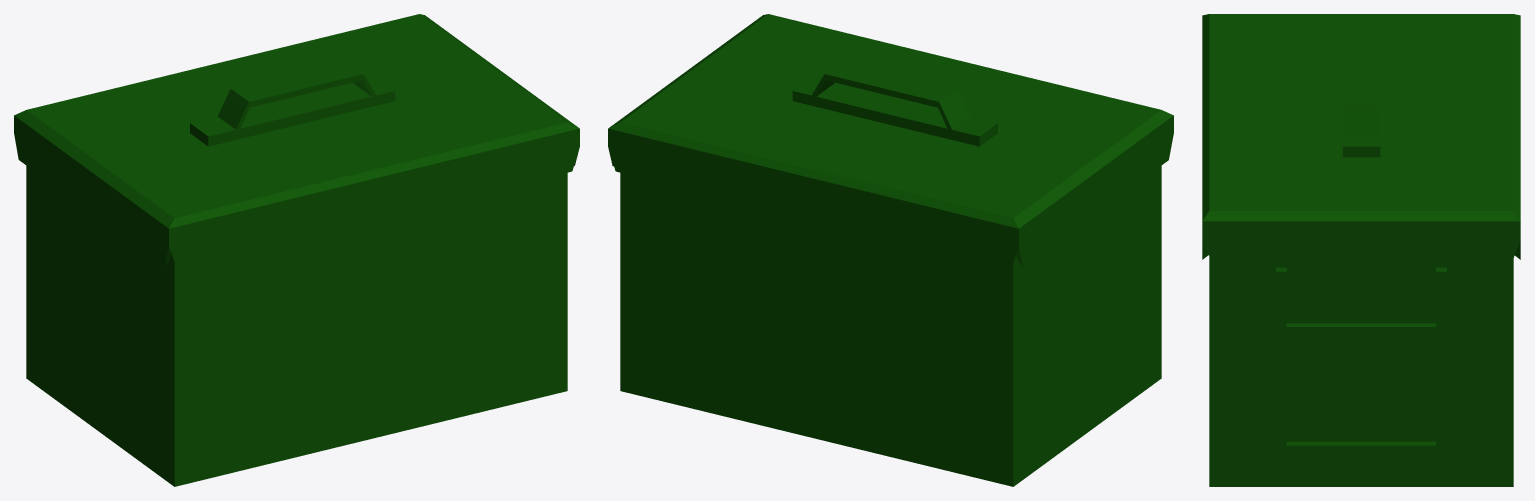
The model's file is caja de metal.fbx.
3 renders of one model, left to right at view 1: azimuth 30°, elevation 25°; view 2: azimuth 150°, elevation 25°; view 3: azimuth 270°, elevation 25°, orthographic. The views are drawn at different scales.
Parts seen in each view (by area): view 1: Cube.034; view 2: Cube.034; view 3: Cube.034.
Boxes of the visible parts, x1,y1,x2,y2 form: Cube.034: (14,14,579,486); Cube.034: (608,14,1173,486); Cube.034: (1202,14,1520,486).
Bounding box in the file's own units: 32.01 × 22.6 × 20.9.
